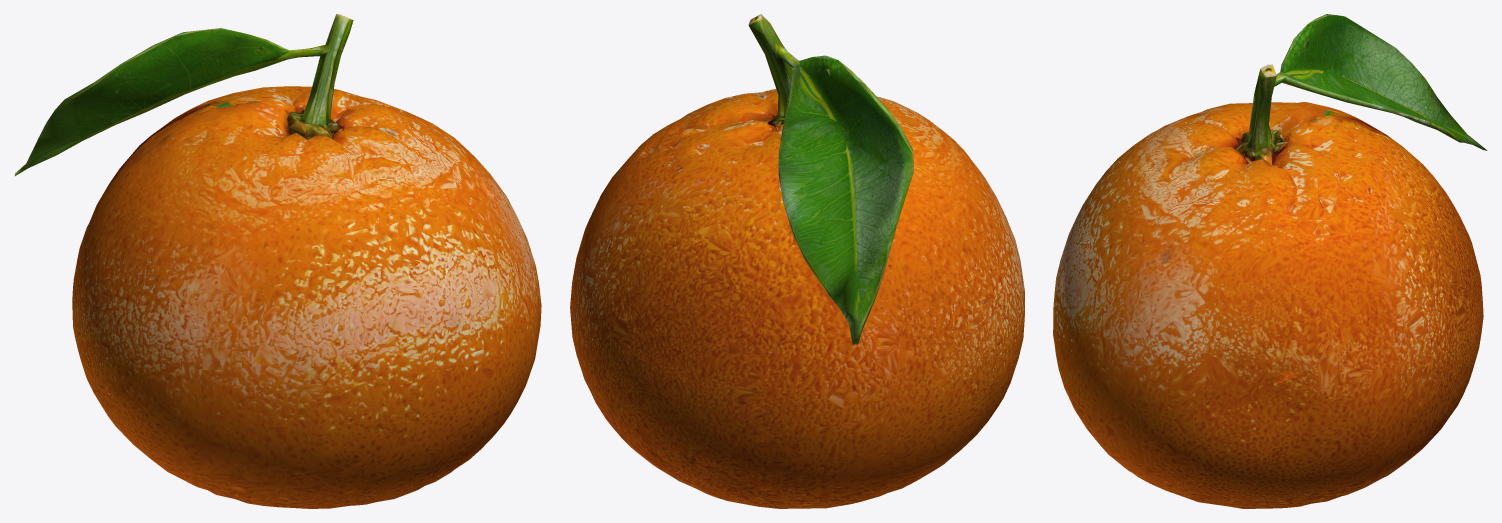
The model's file is Orange_Prop.fbx.
3 views of the same model, side by side, from view 1: azimuth 30°, elevation 25°; view 2: azimuth 150°, elevation 25°; view 3: azimuth 270°, elevation 25° (orthographic). The views are drawn at different scales.
Parts seen in each view (by area): view 1: Orange_Prop; view 2: Orange_Prop; view 3: Orange_Prop.
Boxes of the visible parts, x1=… form: Orange_Prop: x1=14, y1=14, x2=541, y2=508; Orange_Prop: x1=570, y1=14, x2=1024, y2=508; Orange_Prop: x1=1053, y1=14, x2=1487, y2=508.
Size of the model in its own units: 0.4544 by 0.5004 by 0.4635.
Materials: 1 (1 with a texture image).
